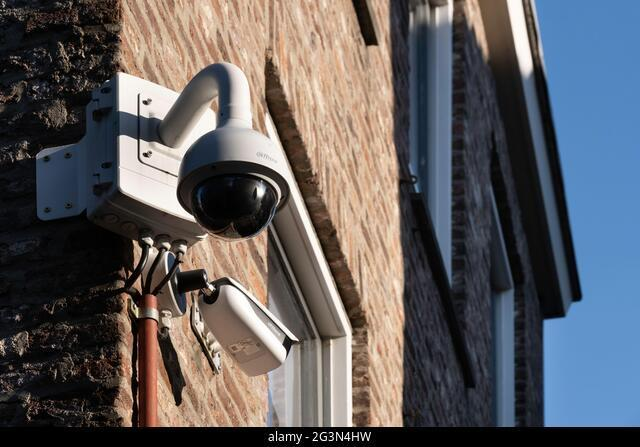CCTV: (116, 59, 298, 244), (144, 253, 307, 386)
